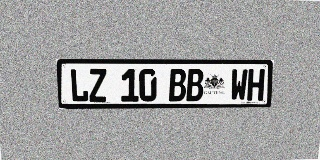0: (139, 69, 156, 102)
1: (121, 69, 139, 102)
B: (186, 69, 204, 101), (169, 69, 186, 101)
H: (247, 69, 265, 101)
L: (69, 69, 89, 102)
W: (230, 69, 248, 101)
Z: (88, 69, 107, 102)
